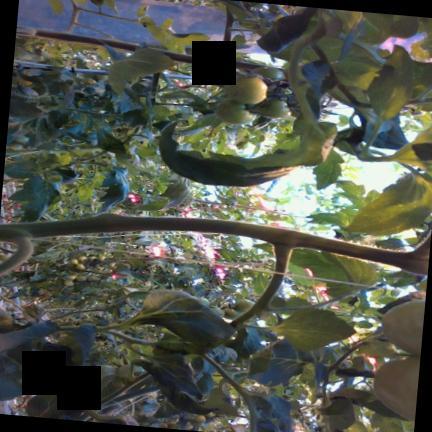6kp_peduncle: (0, 221, 64, 275)
6kp_petiole: (238, 223, 334, 290), (196, 33, 250, 70)
MainStem: (0, 214, 428, 276), (15, 26, 136, 51), (156, 50, 266, 70)
tomato: (374, 357, 420, 421), (382, 300, 425, 356), (224, 77, 267, 104), (215, 99, 254, 125), (261, 99, 289, 119), (115, 364, 144, 378), (252, 67, 283, 79), (91, 365, 115, 380), (236, 299, 254, 312), (222, 308, 242, 319), (7, 141, 23, 150), (210, 307, 224, 317), (193, 415, 205, 423), (197, 297, 209, 305), (15, 136, 28, 143), (87, 275, 100, 281), (184, 422, 193, 430), (63, 280, 74, 286), (75, 264, 85, 270), (68, 259, 78, 265), (94, 265, 104, 271), (169, 424, 181, 429), (95, 75, 107, 80), (97, 254, 105, 261), (66, 275, 77, 280), (75, 276, 86, 281), (204, 412, 215, 417), (107, 262, 115, 268), (77, 256, 86, 260), (88, 256, 95, 261)
